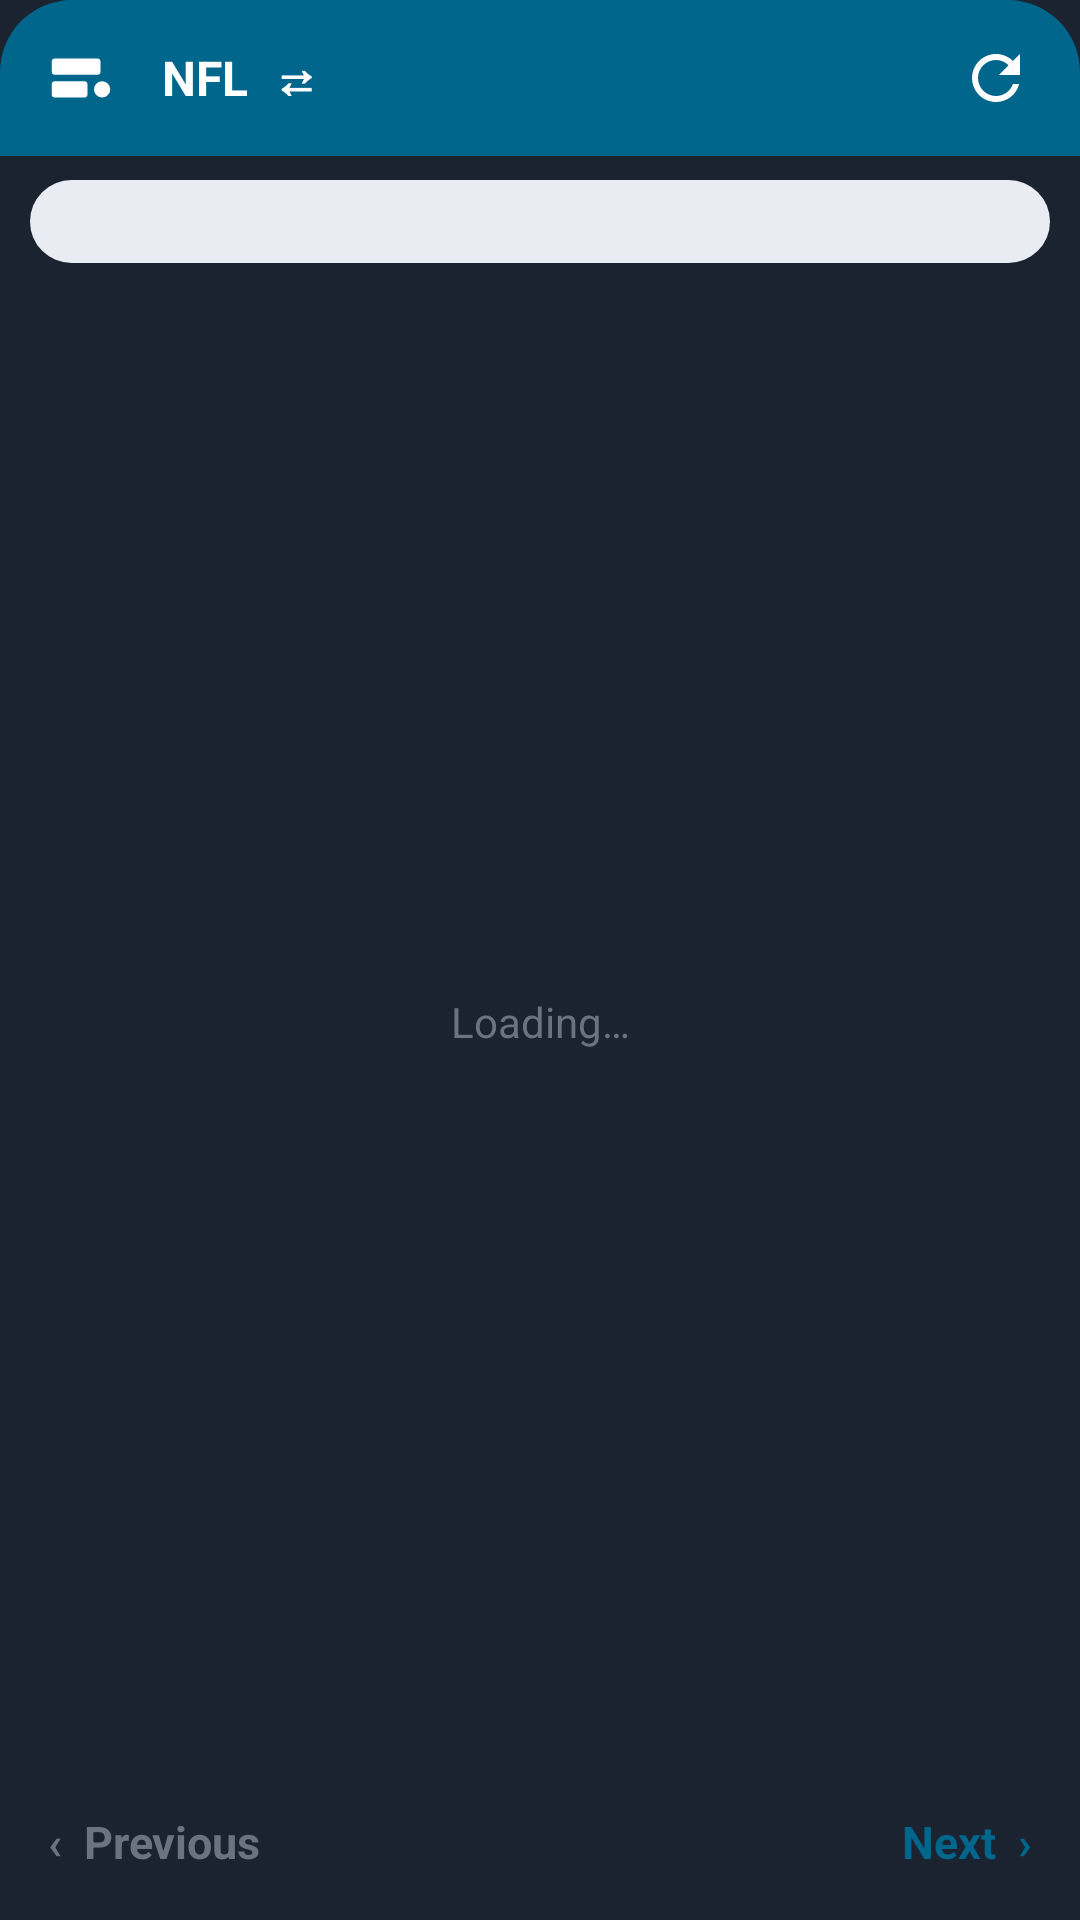

Screen size 1080w x 1920h. Icon name, then its center in pixels as point (x, y):
Refresh: point (996, 78)
